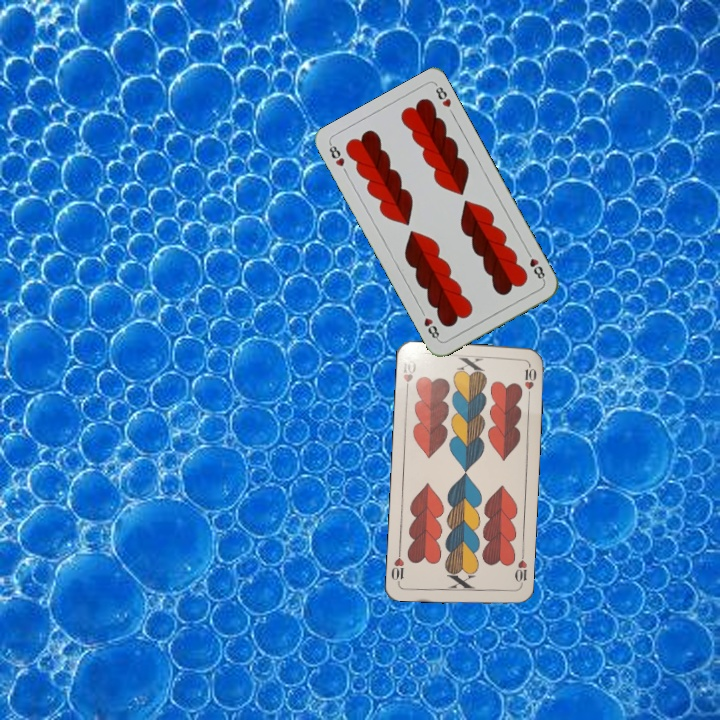H10: (399, 355, 419, 396), (511, 550, 529, 590)
H8: (522, 246, 548, 284), (325, 140, 347, 169)
